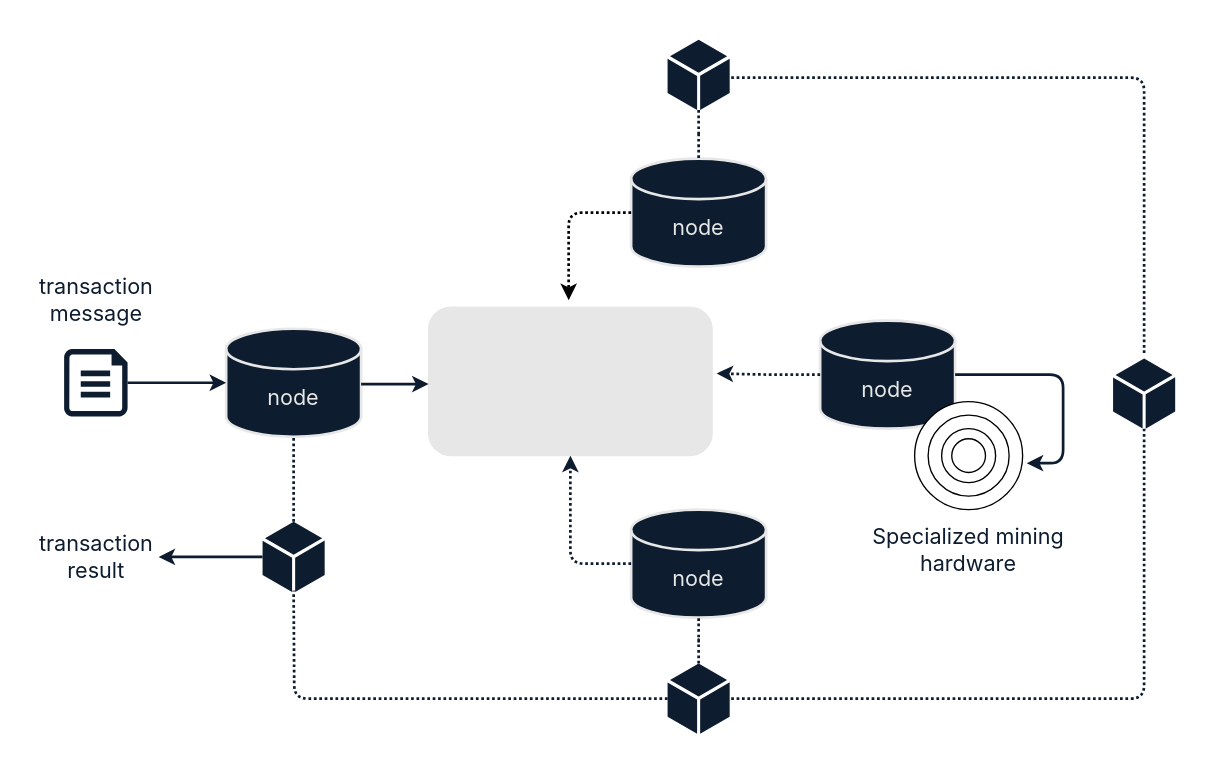
The diagram is 1220 pixels wide and 768 high, and some of its shapes have lost their labels. Here are the shapes that lost their labels. From the top down, the centre of each, then its label:
pixel 569 381: pending transactions (mempool)
pixel 1143 393: tx
